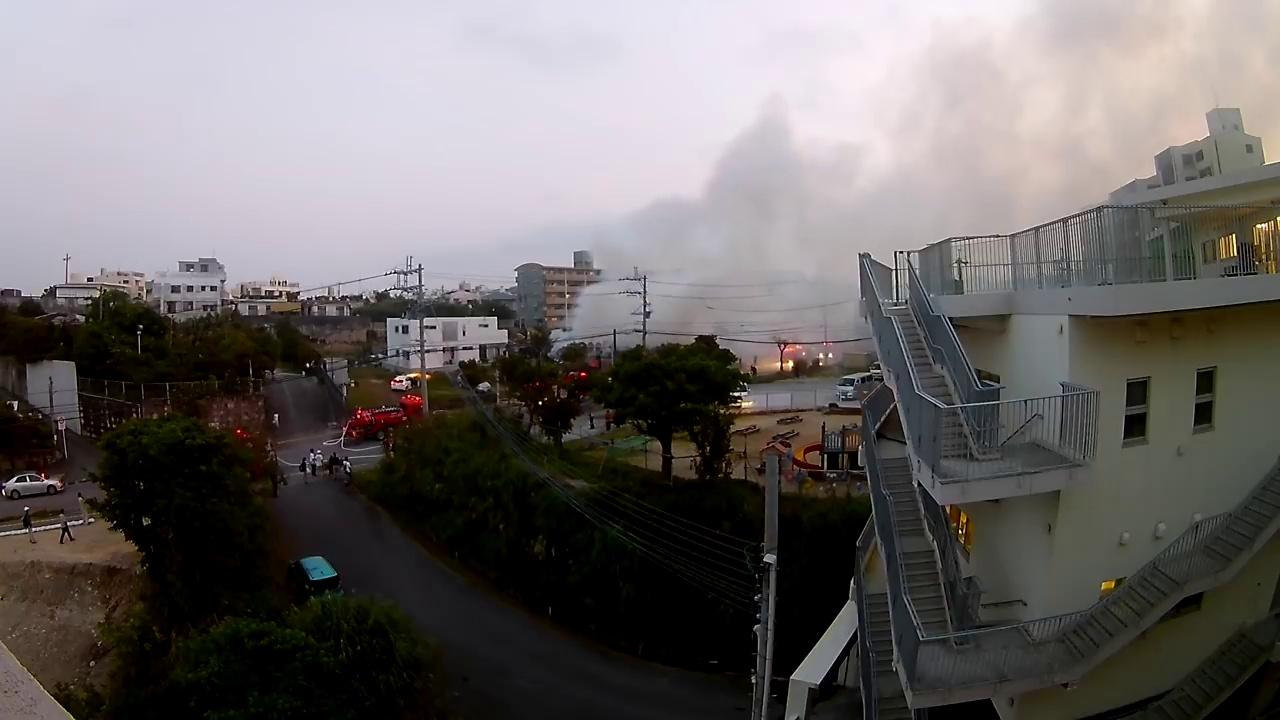fire: (678, 210, 852, 302)
